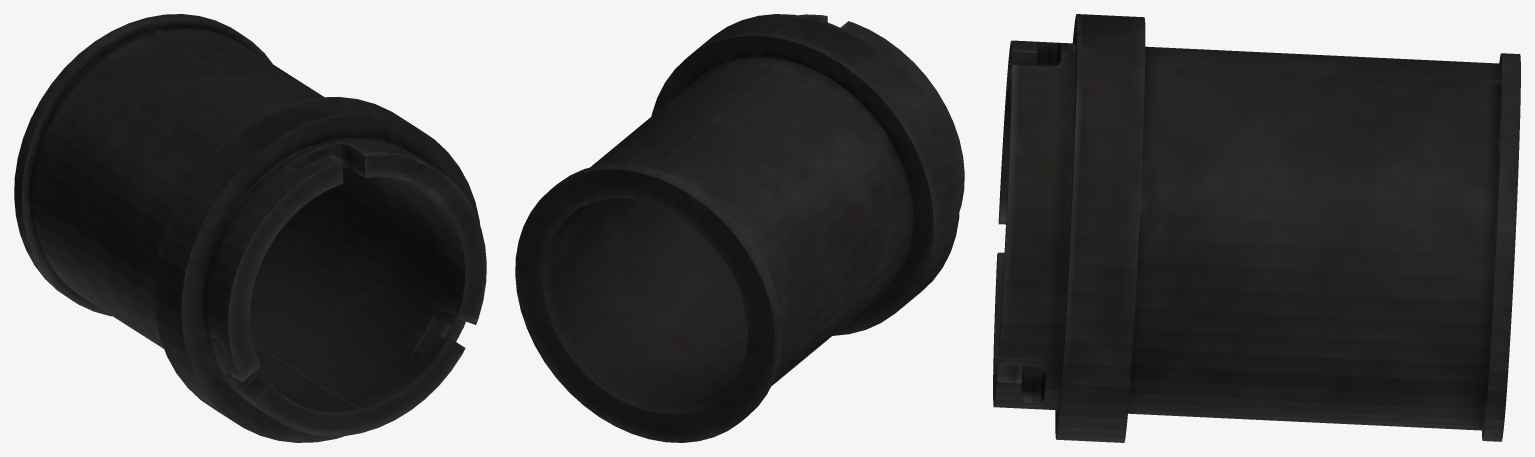
3 renders of one model, left to right at view 1: azimuth 30°, elevation 25°; view 2: azimuth 150°, elevation 25°; view 3: azimuth 270°, elevation 25°, orthographic. The views are drawn at different scales.
Parts seen in each view (by area): view 1: TW_62ff9faffe938a24c90c10df_PZ_Import; view 2: TW_62ff9faffe938a24c90c10df_PZ_Import; view 3: TW_62ff9faffe938a24c90c10df_PZ_Import.
Boxes of the visible parts, x1=… form: TW_62ff9faffe938a24c90c10df_PZ_Import: x1=14, y1=14, x2=486, y2=442; TW_62ff9faffe938a24c90c10df_PZ_Import: x1=515, y1=14, x2=964, y2=442; TW_62ff9faffe938a24c90c10df_PZ_Import: x1=993, y1=14, x2=1520, y2=442.
Bounding box in the file's own units: 0.0181 × 0.0224 × 0.0182.
Materials: 1 (1 with a texture image).
